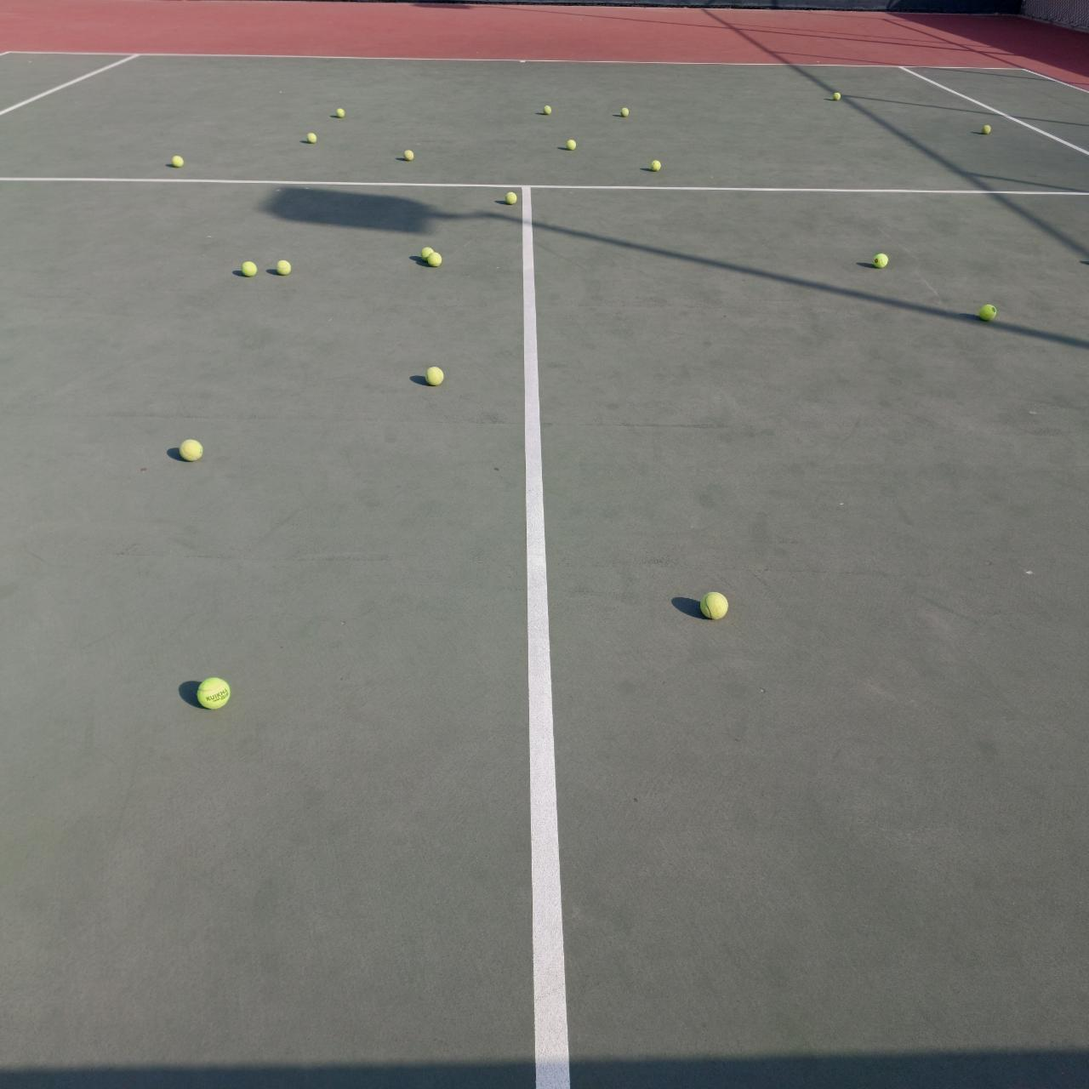tennis-ball: (195, 675, 231, 710), (699, 590, 729, 620), (178, 436, 203, 461), (424, 363, 444, 385), (978, 301, 996, 321), (871, 250, 888, 268), (241, 261, 257, 277), (427, 251, 443, 267), (276, 258, 291, 274), (171, 155, 184, 168), (422, 248, 434, 261), (505, 192, 517, 205), (402, 150, 415, 161), (651, 159, 661, 172), (306, 133, 317, 143), (567, 139, 576, 151), (336, 108, 345, 118), (982, 125, 991, 135), (832, 92, 841, 101), (543, 105, 551, 115), (621, 107, 629, 117)
